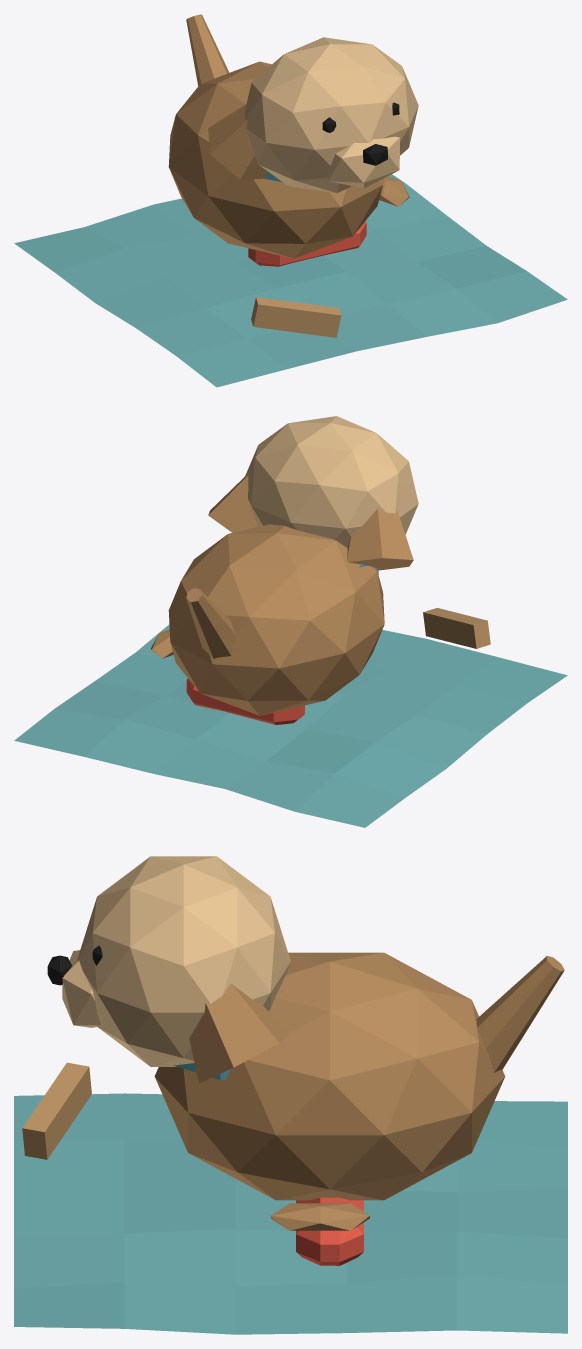
File: sm_cargo_content_puppy.glb
3 views of the same model, one above another, from view 1: azimuth 30°, elevation 25°; view 2: azimuth 150°, elevation 25°; view 3: azimuth 270°, elevation 25° (orthographic). The views are drawn at different scales.
Parts seen in each view (by area): view 1: Filler, Intact, Damage, Ruined; view 2: Intact, Filler, Damage, Ruined; view 3: Intact, Filler, Damage, Ruined.
Part boxes in pixels (box(x1,y1,x2,y2)): Filler: box(14, 174, 567, 387); Intact: box(168, 14, 418, 258); Damage: box(251, 176, 409, 337); Ruined: box(248, 221, 366, 266); Intact: box(168, 416, 418, 715); Filler: box(14, 624, 567, 827); Damage: box(151, 608, 490, 658); Ruined: box(186, 678, 304, 724); Intact: box(47, 856, 564, 1200); Filler: box(14, 1093, 567, 1334); Damage: box(22, 1062, 369, 1230); Ruined: box(296, 1197, 363, 1265).
Size of the model in its own units: 0.5686 by 0.416 by 0.5686.
